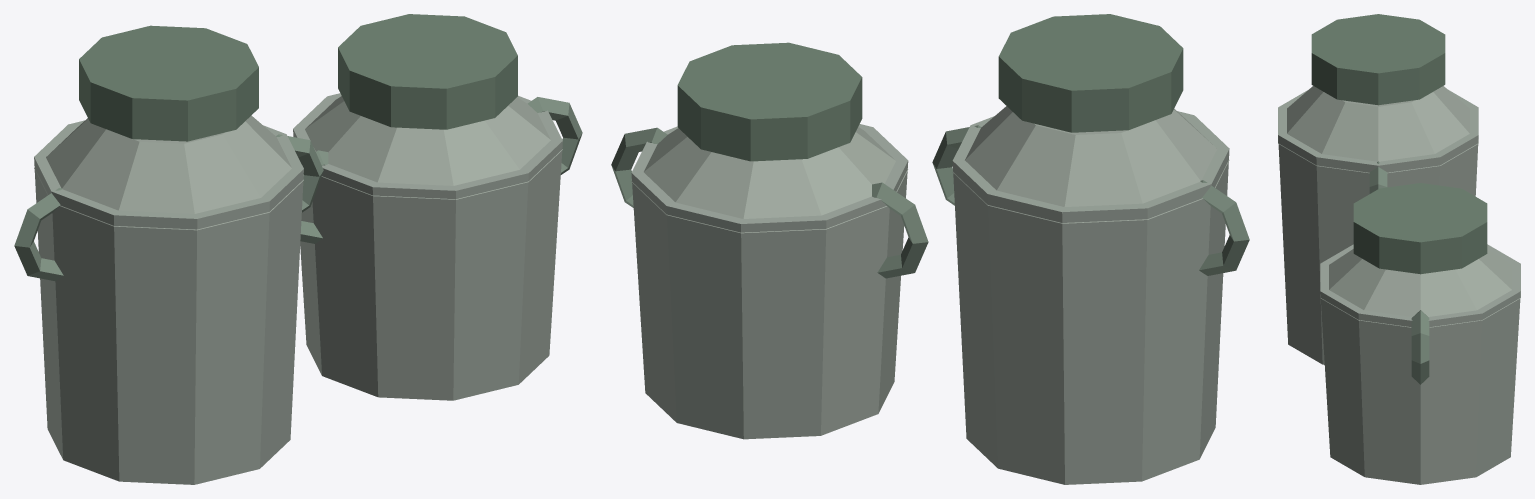
File: map-exclusive-v3__farm_10.glb
3 renders of one model, left to right at view 1: azimuth 30°, elevation 25°; view 2: azimuth 150°, elevation 25°; view 3: azimuth 270°, elevation 25°, orthographic. The views are drawn at different scales.
Visible parts, largest first — view 1: farm_10; view 2: farm_10; view 3: farm_10.
Part boxes in pixels (x1=…): farm_10: x1=14, y1=14, x2=582, y2=484; farm_10: x1=611, y1=14, x2=1249, y2=484; farm_10: x1=1278, y1=14, x2=1520, y2=484.
Bounding box in the file's own units: 1.52 × 0.9189 × 0.6906.
